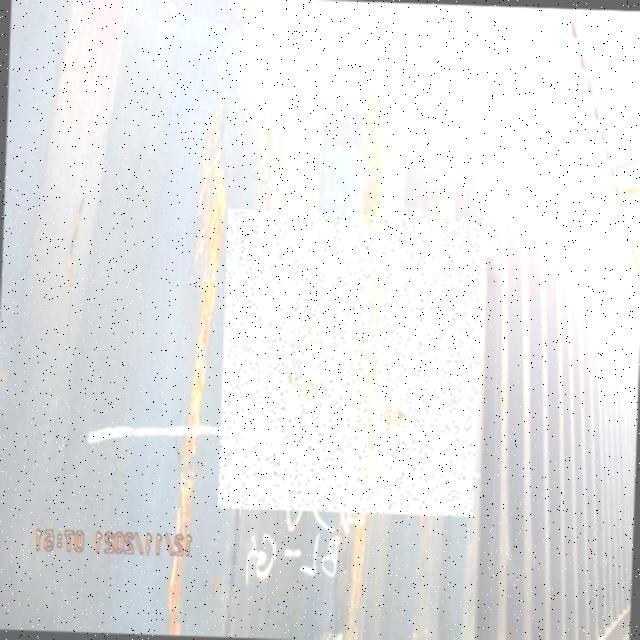Dent: (218, 209, 483, 517)
